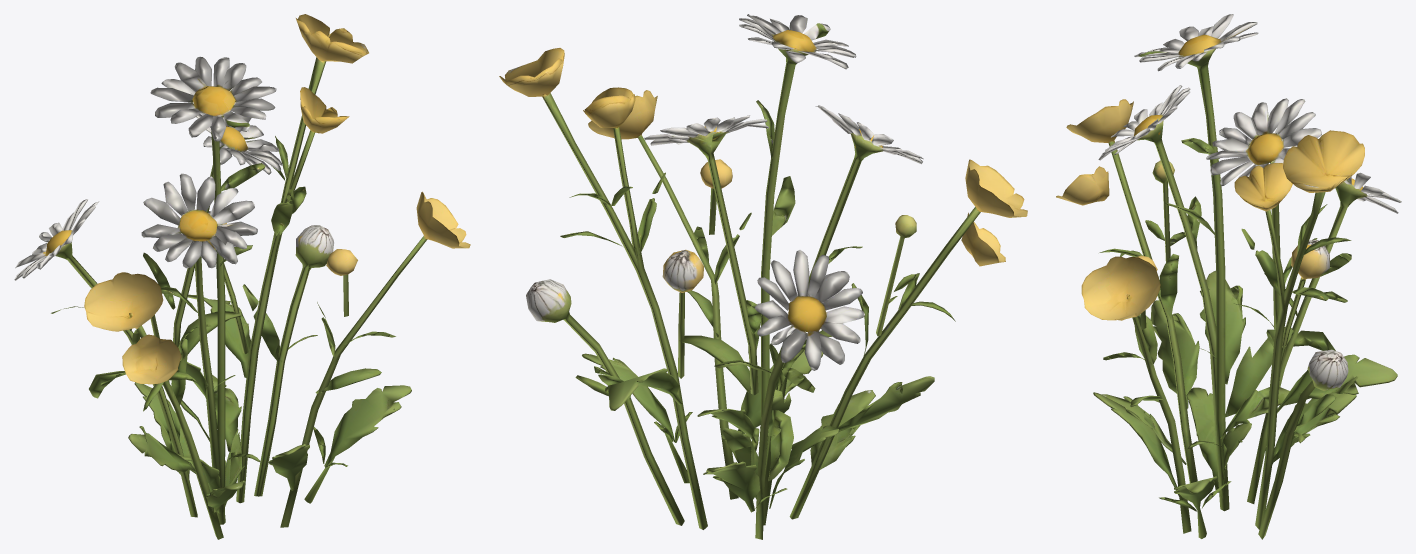
File: 019ec7de-8acb-72cb-a508-608e5ab85cf5.glb
3 renders of one model, left to right at view 1: azimuth 30°, elevation 25°; view 2: azimuth 150°, elevation 25°; view 3: azimuth 270°, elevation 25°, orthographic. The views are drawn at different scales.
Parts seen in each view (by area): view 1: tripo_node_62741194-a41c-4d1d-9fa3-003b40e20616; view 2: tripo_node_62741194-a41c-4d1d-9fa3-003b40e20616; view 3: tripo_node_62741194-a41c-4d1d-9fa3-003b40e20616.
Part boxes in pixels (x1,y1,x2,y2): tripo_node_62741194-a41c-4d1d-9fa3-003b40e20616: [14, 14, 470, 539]; tripo_node_62741194-a41c-4d1d-9fa3-003b40e20616: [499, 14, 1027, 539]; tripo_node_62741194-a41c-4d1d-9fa3-003b40e20616: [1056, 14, 1401, 539].
Size of the model in its own units: 0.873 by 0.998 by 0.6582.
Materials: 1 (1 with a texture image).
